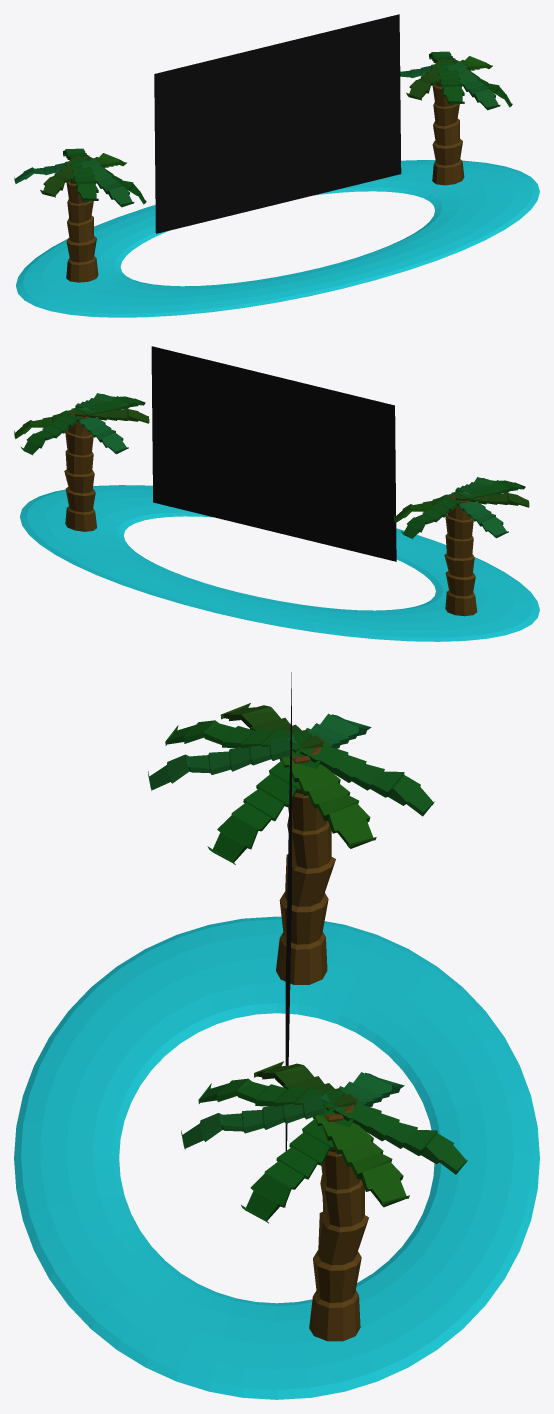
Rendered from float16.fbx.
The picture shows the model from 3 angles, top to bottom: view 1: azimuth 30°, elevation 25°; view 2: azimuth 150°, elevation 25°; view 3: azimuth 270°, elevation 25°; orthographic projection. The views are drawn at different scales.
Parts seen in each view (by area): view 1: Torus; view 2: Torus; view 3: Torus.
Boxes of the visible parts, <box> form: Torus: <box>14,14,539,317</box>; Torus: <box>14,346,539,641</box>; Torus: <box>14,672,539,1399</box>.
Bounding box in the file's own units: 1326 × 487 × 610.
